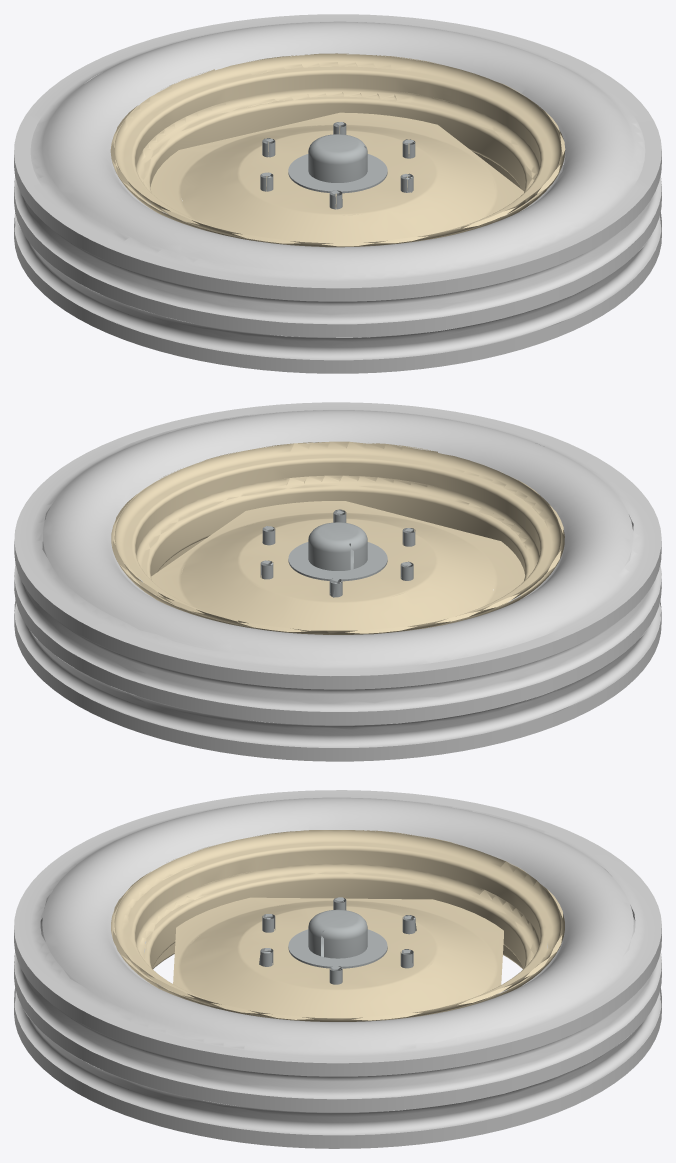
The model's file is front_left_wheel_visual.obj.
3 views of the same model, one above another, from view 1: azimuth 30°, elevation 25°; view 2: azimuth 150°, elevation 25°; view 3: azimuth 270°, elevation 25° (orthographic).
Visible parts, largest first — view 1: front_left_wheel_visual; view 2: front_left_wheel_visual; view 3: front_left_wheel_visual.
Part boxes in pixels (box(x1,y1,x2,y2)): front_left_wheel_visual: box(14, 14, 661, 373); front_left_wheel_visual: box(14, 402, 661, 761); front_left_wheel_visual: box(14, 790, 661, 1148).
Size of the model in its own units: 0.8048 by 0.1512 by 0.8049.
